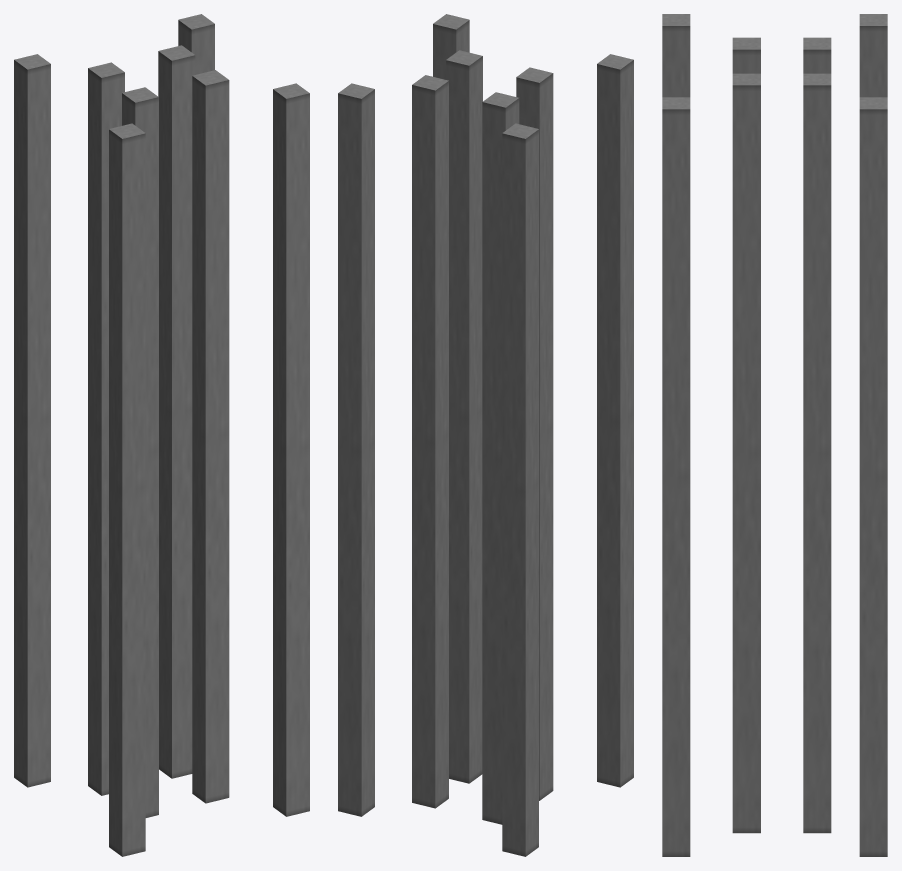
File: controlRodRods.obj
3 views of the same model, side by side, from view 1: azimuth 30°, elevation 25°; view 2: azimuth 150°, elevation 25°; view 3: azimuth 270°, elevation 25° (orthographic). The views are drawn at different scales.
Visible parts, largest first — view 1: cube; view 2: cube; view 3: cube.
Part boxes in pixels (x1,y1,x2,y2): cube: (14, 14, 309, 856); cube: (338, 14, 633, 856); cube: (662, 14, 887, 856).
Bounding box in the file's own units: 4.64 × 16.97 × 4.64.
